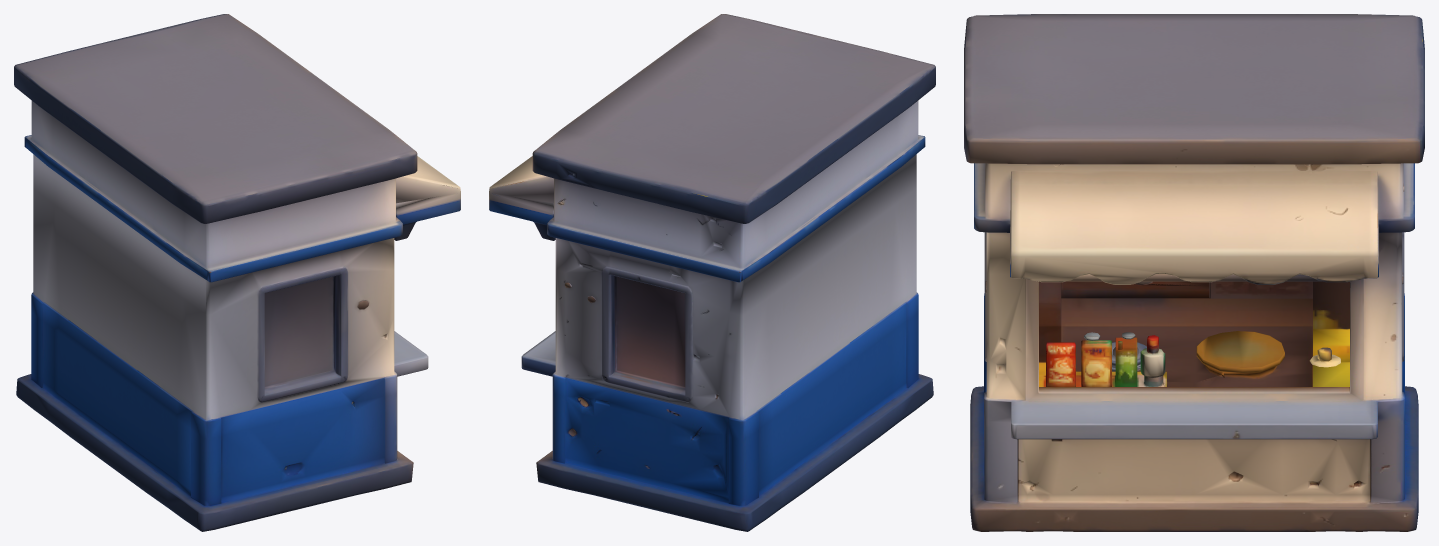
Rendered from kiosk.glb.
The picture shows the model from 3 angles, left to right: view 1: azimuth 30°, elevation 25°; view 2: azimuth 150°, elevation 25°; view 3: azimuth 270°, elevation 25°; orthographic projection. The views are drawn at different scales.
Visible parts, largest first — view 1: tripo_node_2ac8b863-8ce9-42f7-a52c-21dca07f8e78; view 2: tripo_node_2ac8b863-8ce9-42f7-a52c-21dca07f8e78; view 3: tripo_node_2ac8b863-8ce9-42f7-a52c-21dca07f8e78.
Part boxes in pixels (bbox=[...]): tripo_node_2ac8b863-8ce9-42f7-a52c-21dca07f8e78: bbox=[14, 14, 460, 531]; tripo_node_2ac8b863-8ce9-42f7-a52c-21dca07f8e78: bbox=[489, 14, 935, 531]; tripo_node_2ac8b863-8ce9-42f7-a52c-21dca07f8e78: bbox=[964, 14, 1424, 531].
Size of the model in its own units: 1.58 by 1.8 by 1.9.
Materials: 1 (1 with a texture image).
